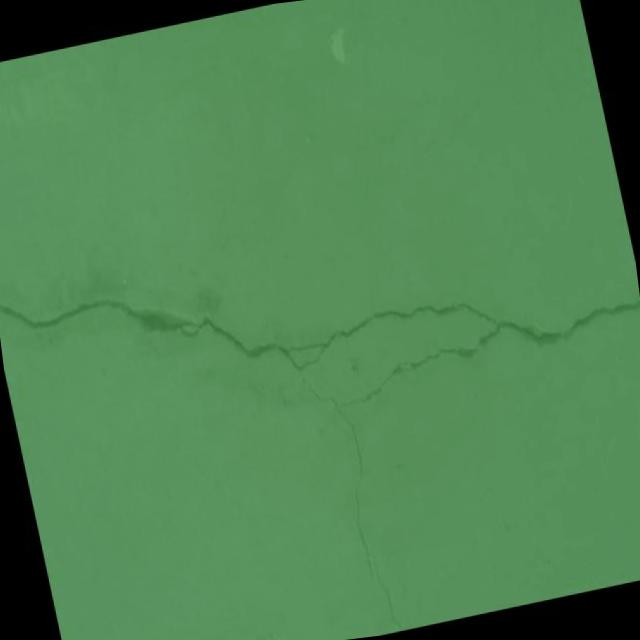crack: (0, 173, 640, 640), (372, 555, 402, 633)
